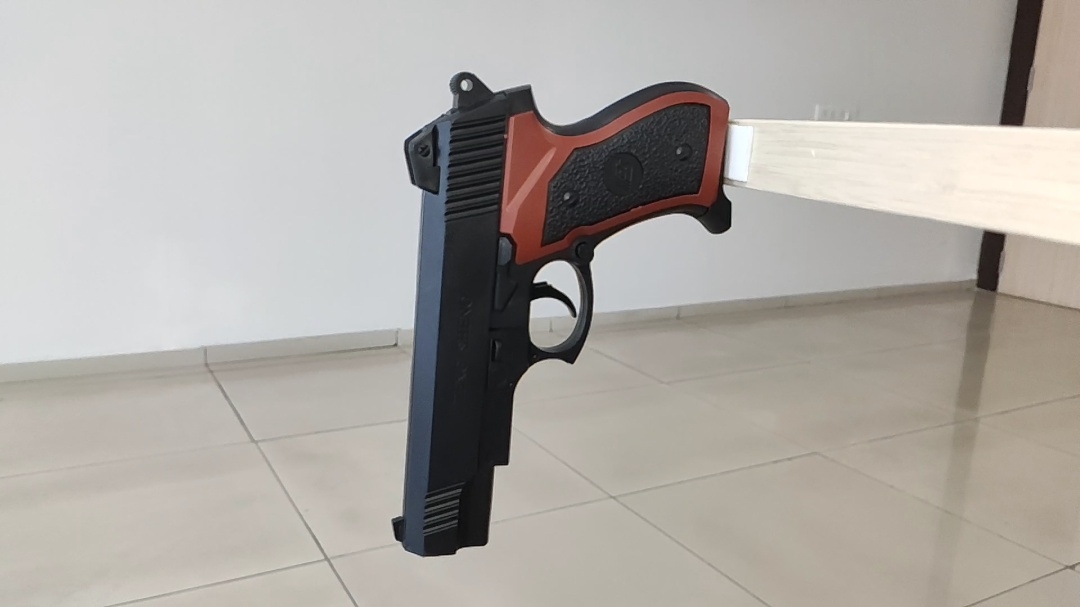gun: (332, 221, 469, 367)
